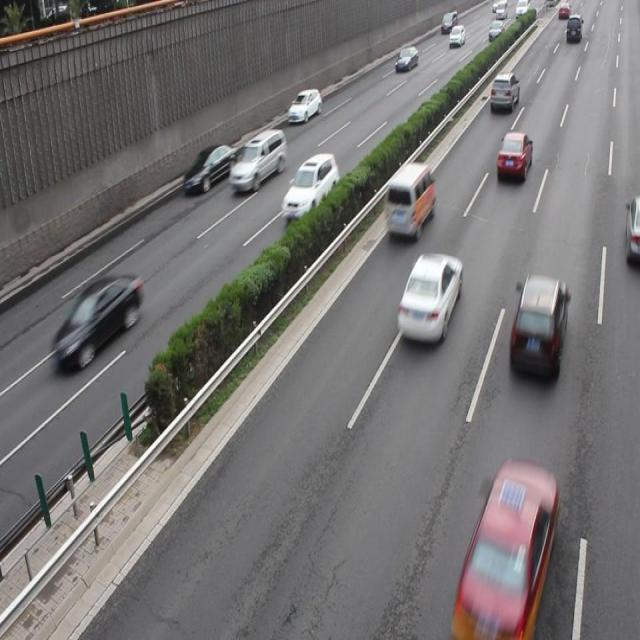car: (455, 459, 557, 631), (51, 272, 143, 370), (506, 272, 566, 382), (395, 252, 461, 345), (280, 152, 339, 220), (182, 141, 238, 196), (495, 131, 531, 184), (287, 88, 321, 123), (624, 196, 640, 266)
truck: (383, 162, 434, 238), (227, 128, 286, 192)
